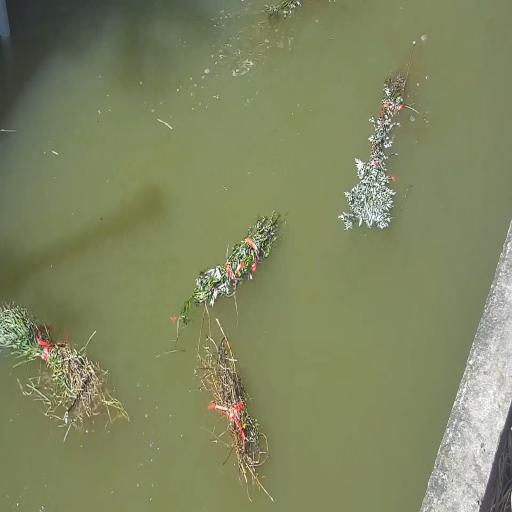twig: (0, 302, 132, 444), (196, 280, 275, 502), (337, 39, 416, 231), (178, 211, 281, 314), (258, 0, 303, 25)
